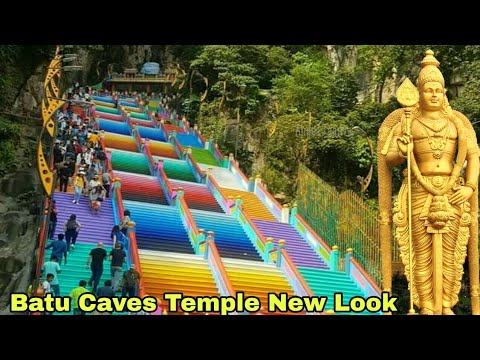Hindu Temple: (377, 50, 479, 305)
